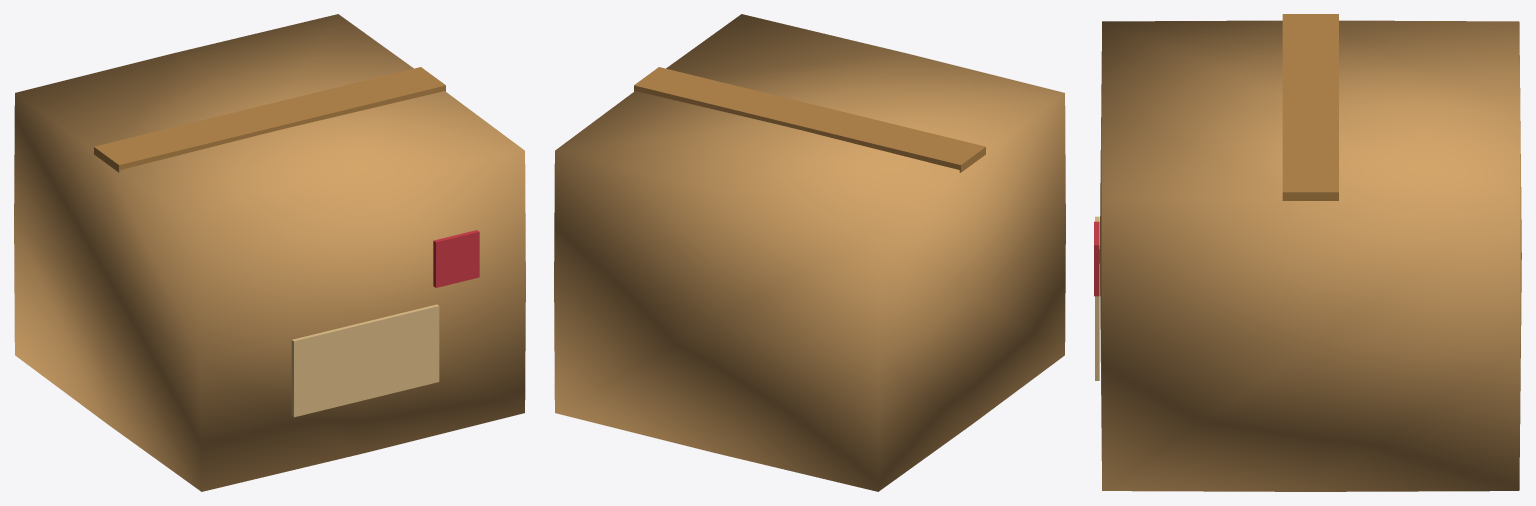
The model's file is box_cardboard.glb.
3 views of the same model, side by side, from view 1: azimuth 30°, elevation 25°; view 2: azimuth 150°, elevation 25°; view 3: azimuth 270°, elevation 25° (orthographic). The views are drawn at different scales.
Visible parts, largest first — view 1: root; view 2: root; view 3: root.
Part boxes in pixels (x1,y1,x2,y2): root: [14, 14, 525, 491]; root: [554, 14, 1065, 491]; root: [1094, 14, 1521, 491].
Size of the model in its own units: 0.9 by 0.71 by 0.912.
